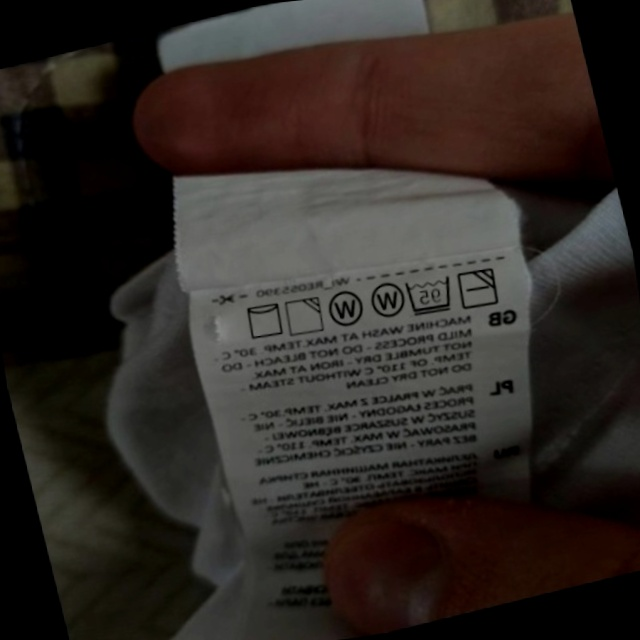95C: (399, 268, 460, 322)
dry_flat_in_shade: (452, 260, 505, 316)
line_dry: (238, 294, 290, 346)
shade_dry: (279, 290, 330, 342)
wet_clean: (321, 284, 370, 335), (362, 273, 410, 325)
